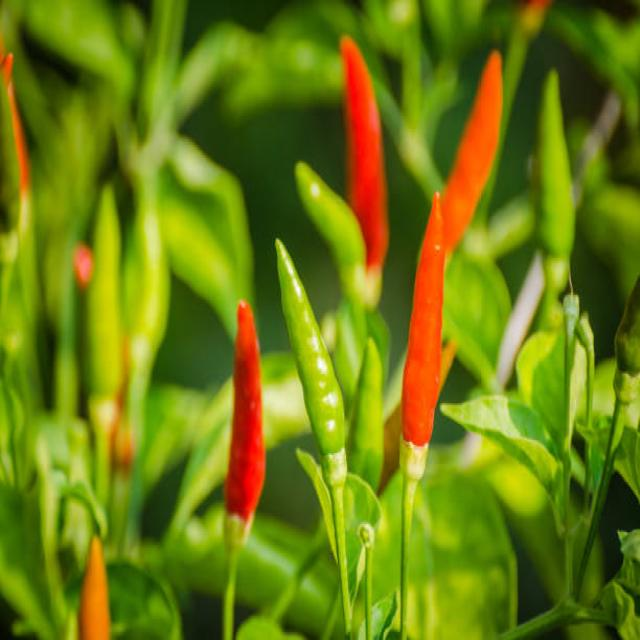Ripe: (401, 193, 445, 448)
Unripe: (276, 239, 351, 637), (349, 337, 384, 488)
